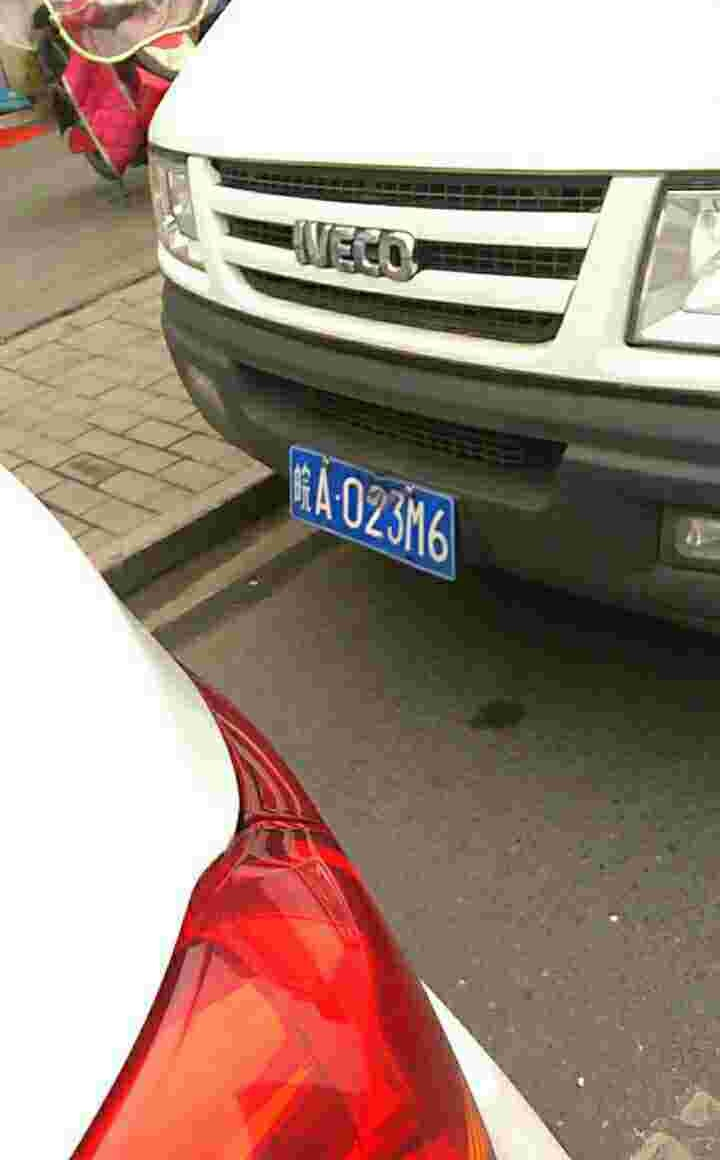license_plate: (288, 450, 451, 587)
